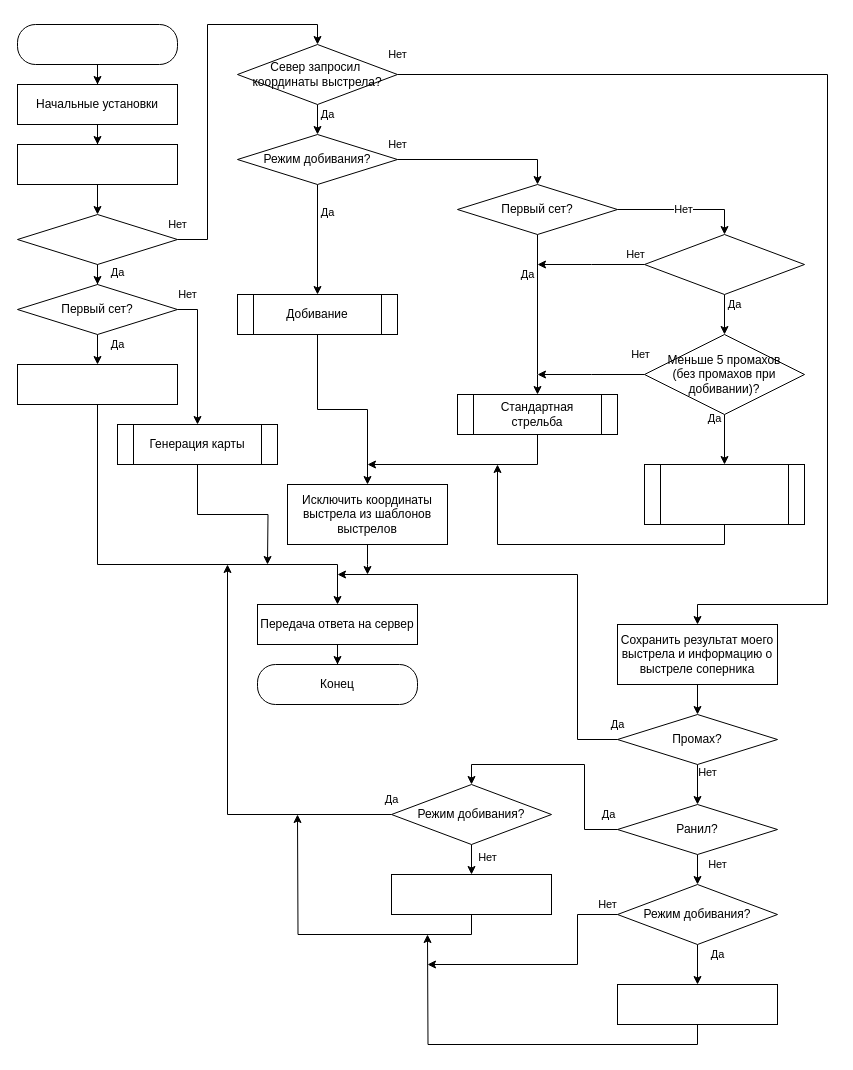
This 853x1070 diagram has some shape labels left out. Here are the shapes that lost their labels. From the top down, the centre of each, then its label:
At [97,44]: "Начало".
At [97,164]: "Ответ сервера".
At [97,239]: "Сервер запросил карту?".
At [724,264]: "Стрельба по шаблону противника?".
At [97,384]: "Вернуть стандартную карту".
At [724,494]: "Стрельба по шаблону противника".
At [471,894]: "Включить режим добивания".
At [697,1004]: "Выключить режим добивания".
